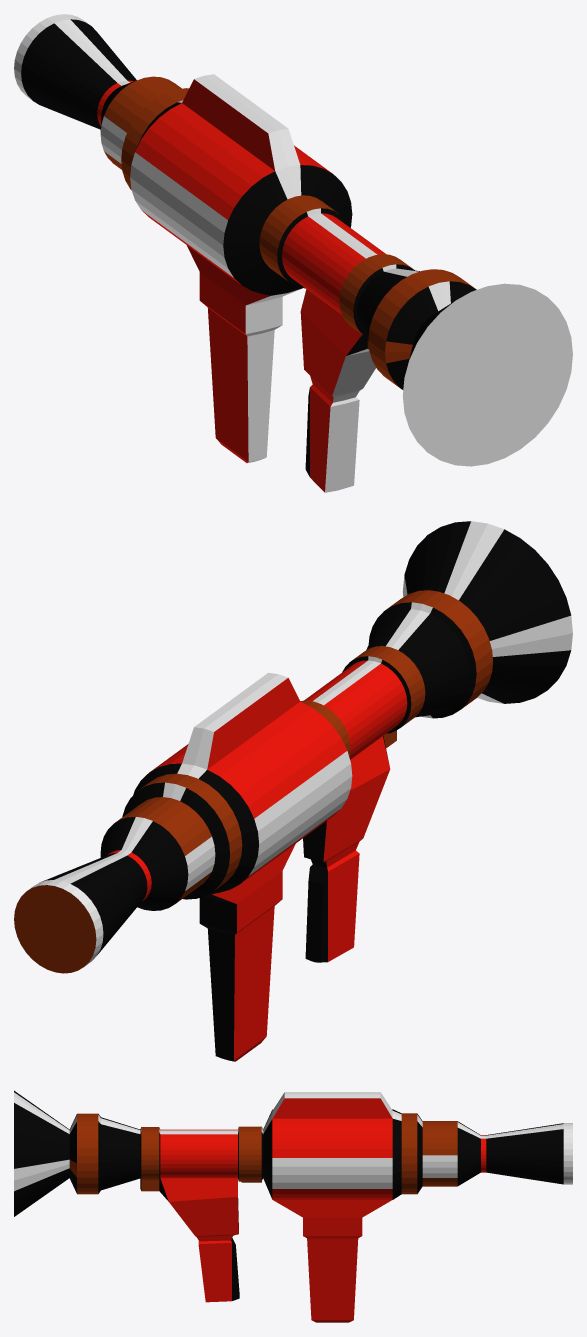
The model's file is RPG.fbx.
The picture shows the model from 3 angles, top to bottom: view 1: azimuth 30°, elevation 25°; view 2: azimuth 150°, elevation 25°; view 3: azimuth 270°, elevation 25°; orthographic projection. The views are drawn at different scales.
Parts seen in each view (by area): view 1: Cylinder; view 2: Cylinder; view 3: Cylinder.
Boxes of the visible parts, x1=… form: Cylinder: x1=14, y1=14, x2=572, y2=492; Cylinder: x1=14, y1=521, x2=572, y2=1061; Cylinder: x1=14, y1=1090, x2=572, y2=1322.
Size of the model in its own units: 35.86 by 70.41 by 158.
